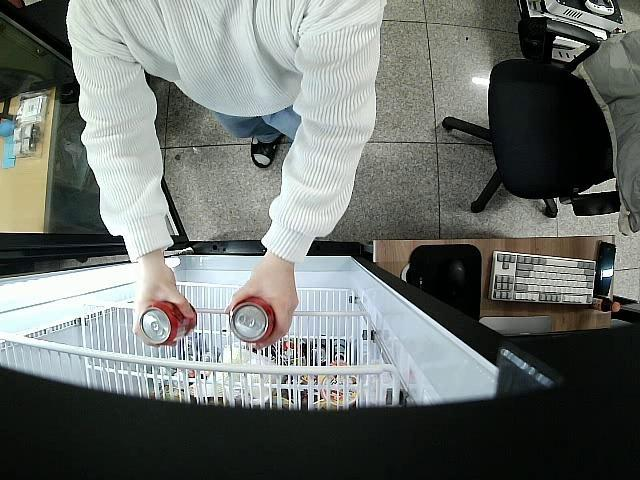11_cocaColaZero: (139, 298, 198, 343), (227, 298, 276, 345)
